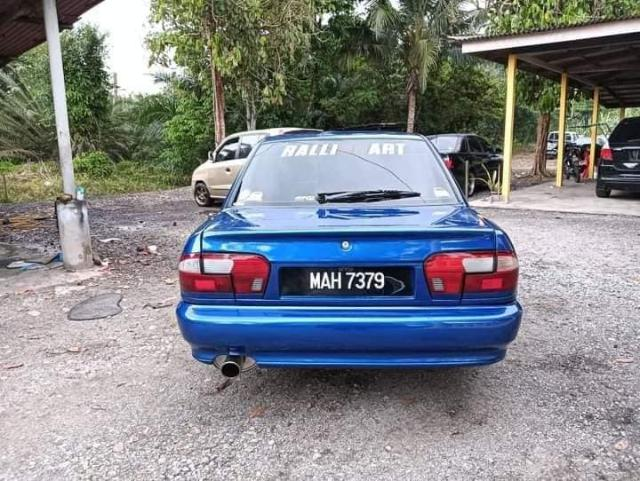License_Plate: (282, 269, 407, 297)
car: (176, 128, 525, 384)
